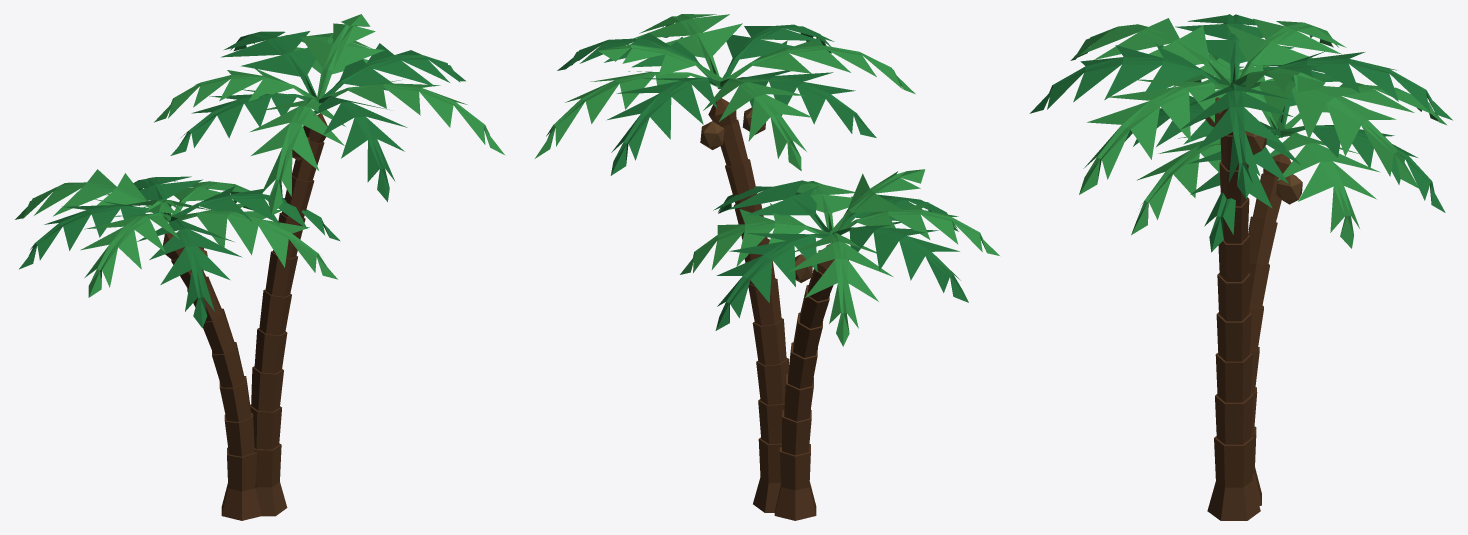
File: beach-palm-3.glb
The picture shows the model from 3 angles, left to right: view 1: azimuth 30°, elevation 25°; view 2: azimuth 150°, elevation 25°; view 3: azimuth 270°, elevation 25°; orthographic projection. The views are drawn at different scales.
Visible parts, largest first — view 1: BeachPalm3; view 2: BeachPalm3; view 3: BeachPalm3.
Boxes of the visible parts, x1,y1,x2,y2 form: BeachPalm3: [15, 14, 504, 520]; BeachPalm3: [535, 14, 999, 520]; BeachPalm3: [1029, 14, 1452, 520].
Bounding box in the file's own units: 8.26 × 8.11 × 6.22.
